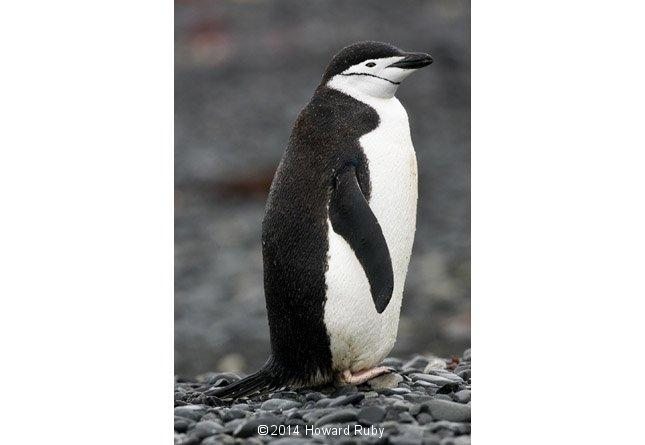chinstrap: (237, 9, 485, 417)
